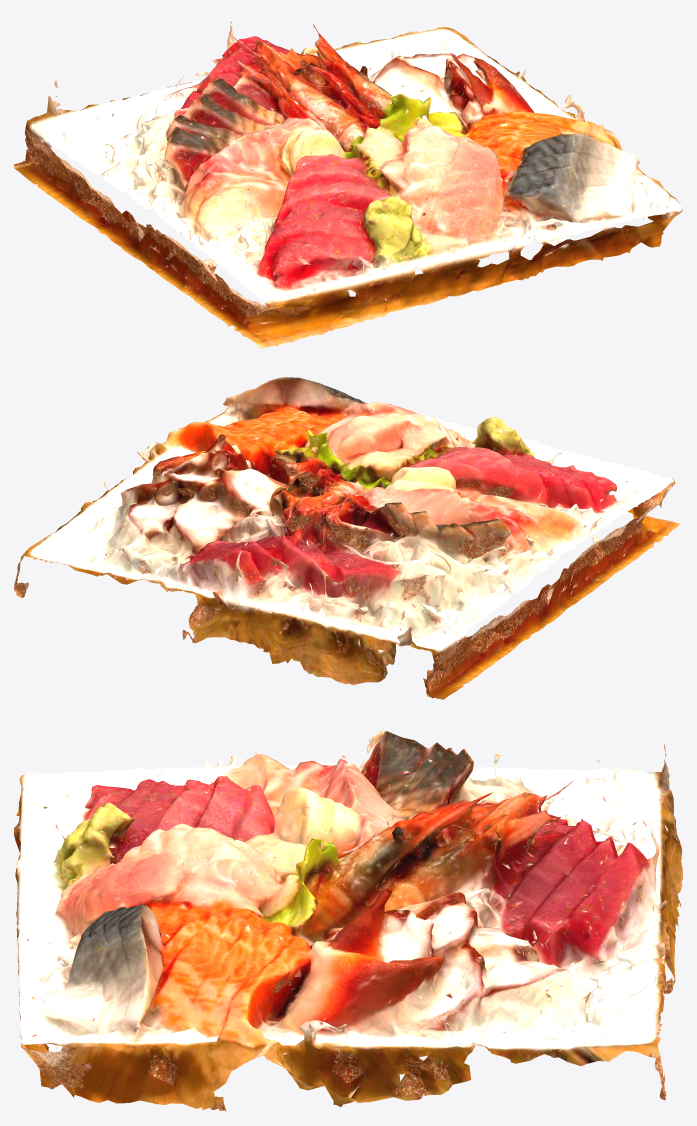
File: sashimi.glb
3 renders of one model, top to bottom at view 1: azimuth 30°, elevation 25°; view 2: azimuth 150°, elevation 25°; view 3: azimuth 270°, elevation 25°, orthographic. The views are drawn at different scales.
Parts seen in each view (by area): view 1: Stereo textured mesh_Material0_0; view 2: Stereo textured mesh_Material0_0; view 3: Stereo textured mesh_Material0_0.
Boxes of the visible parts, box(x1,y1,x2,y2) form: Stereo textured mesh_Material0_0: box(14, 14, 682, 348); Stereo textured mesh_Material0_0: box(14, 377, 681, 699); Stereo textured mesh_Material0_0: box(14, 728, 682, 1111).
Bounding box in the file's own units: 0.32 × 0.0968 × 0.3158.
1 material, 1 textured.
